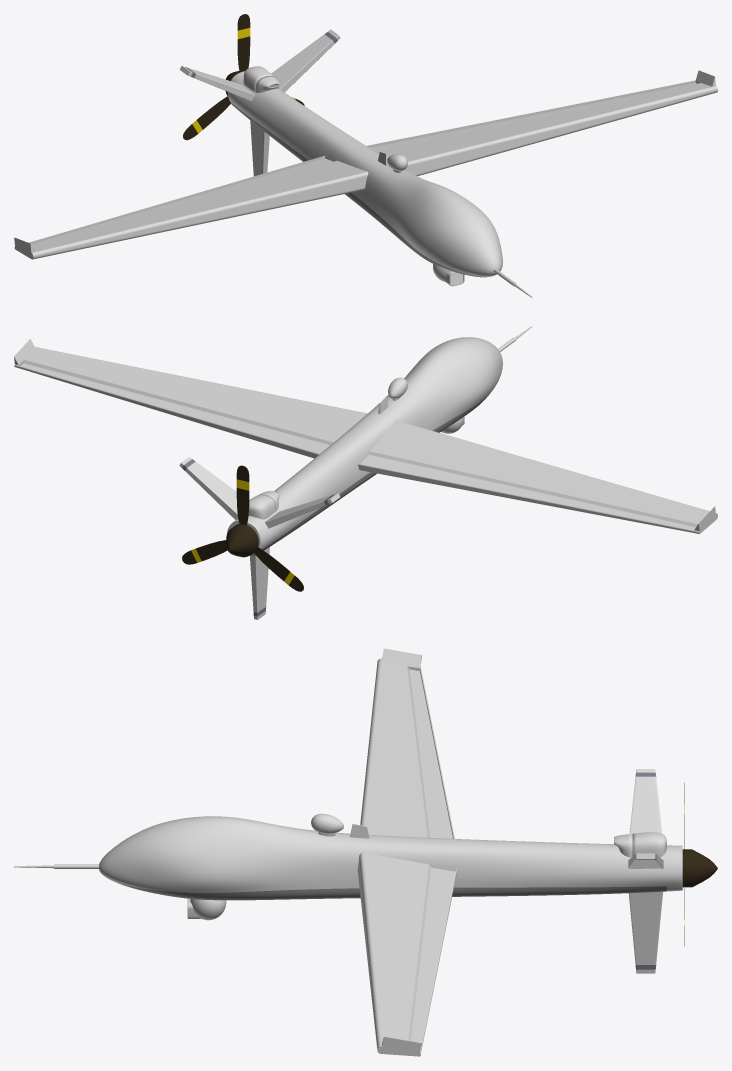
The model's file is gudingyiD.glb.
The picture shows the model from 3 angles, top to bottom: view 1: azimuth 30°, elevation 25°; view 2: azimuth 150°, elevation 25°; view 3: azimuth 270°, elevation 25°; orthographic projection. The views are drawn at different scales.
Visible parts, largest first — view 1: 立方体.001, 立方体, 平面.002, 立方体.003, 立方体.004, 立方体.002, 立方体.005; view 2: 立方体.001, 立方体, 平面.002, 立方体.003, 立方体.004, 立方体.002, 立方体.005; view 3: 立方体, 立方体.001, 立方体.004, 立方体.002, 平面.002, 立方体.005.
Boxes of the visible parts, x1=… form: 立方体.001: x1=14, y1=70, x2=717, y2=259; 立方体: x1=228, y1=71, x2=502, y2=277; 平面.002: x1=183, y1=14, x2=304, y2=140; 立方体.003: x1=271, y1=29, x2=340, y2=92; 立方体.004: x1=250, y1=120, x2=269, y2=176; 立方体.002: x1=180, y1=66, x2=255, y2=101; 立方体.005: x1=243, y1=66, x2=279, y2=92; 立方体.001: x1=14, y1=339, x2=717, y2=534; 立方体: x1=227, y1=337, x2=502, y2=555; 平面.002: x1=182, y1=465, x2=303, y2=591; 立方体.003: x1=179, y1=457, x2=237, y2=519; 立方体.004: x1=250, y1=547, x2=269, y2=619; 立方体.002: x1=265, y1=493, x2=340, y2=528; 立方体.005: x1=248, y1=491, x2=279, y2=519; 立方体: x1=99, y1=816, x2=682, y2=900; 立方体.001: x1=357, y1=648, x2=456, y2=1056; 立方体.004: x1=628, y1=891, x2=662, y2=973; 立方体.002: x1=629, y1=769, x2=662, y2=834; 平面.002: x1=682, y1=783, x2=717, y2=945; 立方体.005: x1=614, y1=832, x2=666, y2=857.
Bounding box in the file's own units: 42.11 × 9.56 × 32.27.
